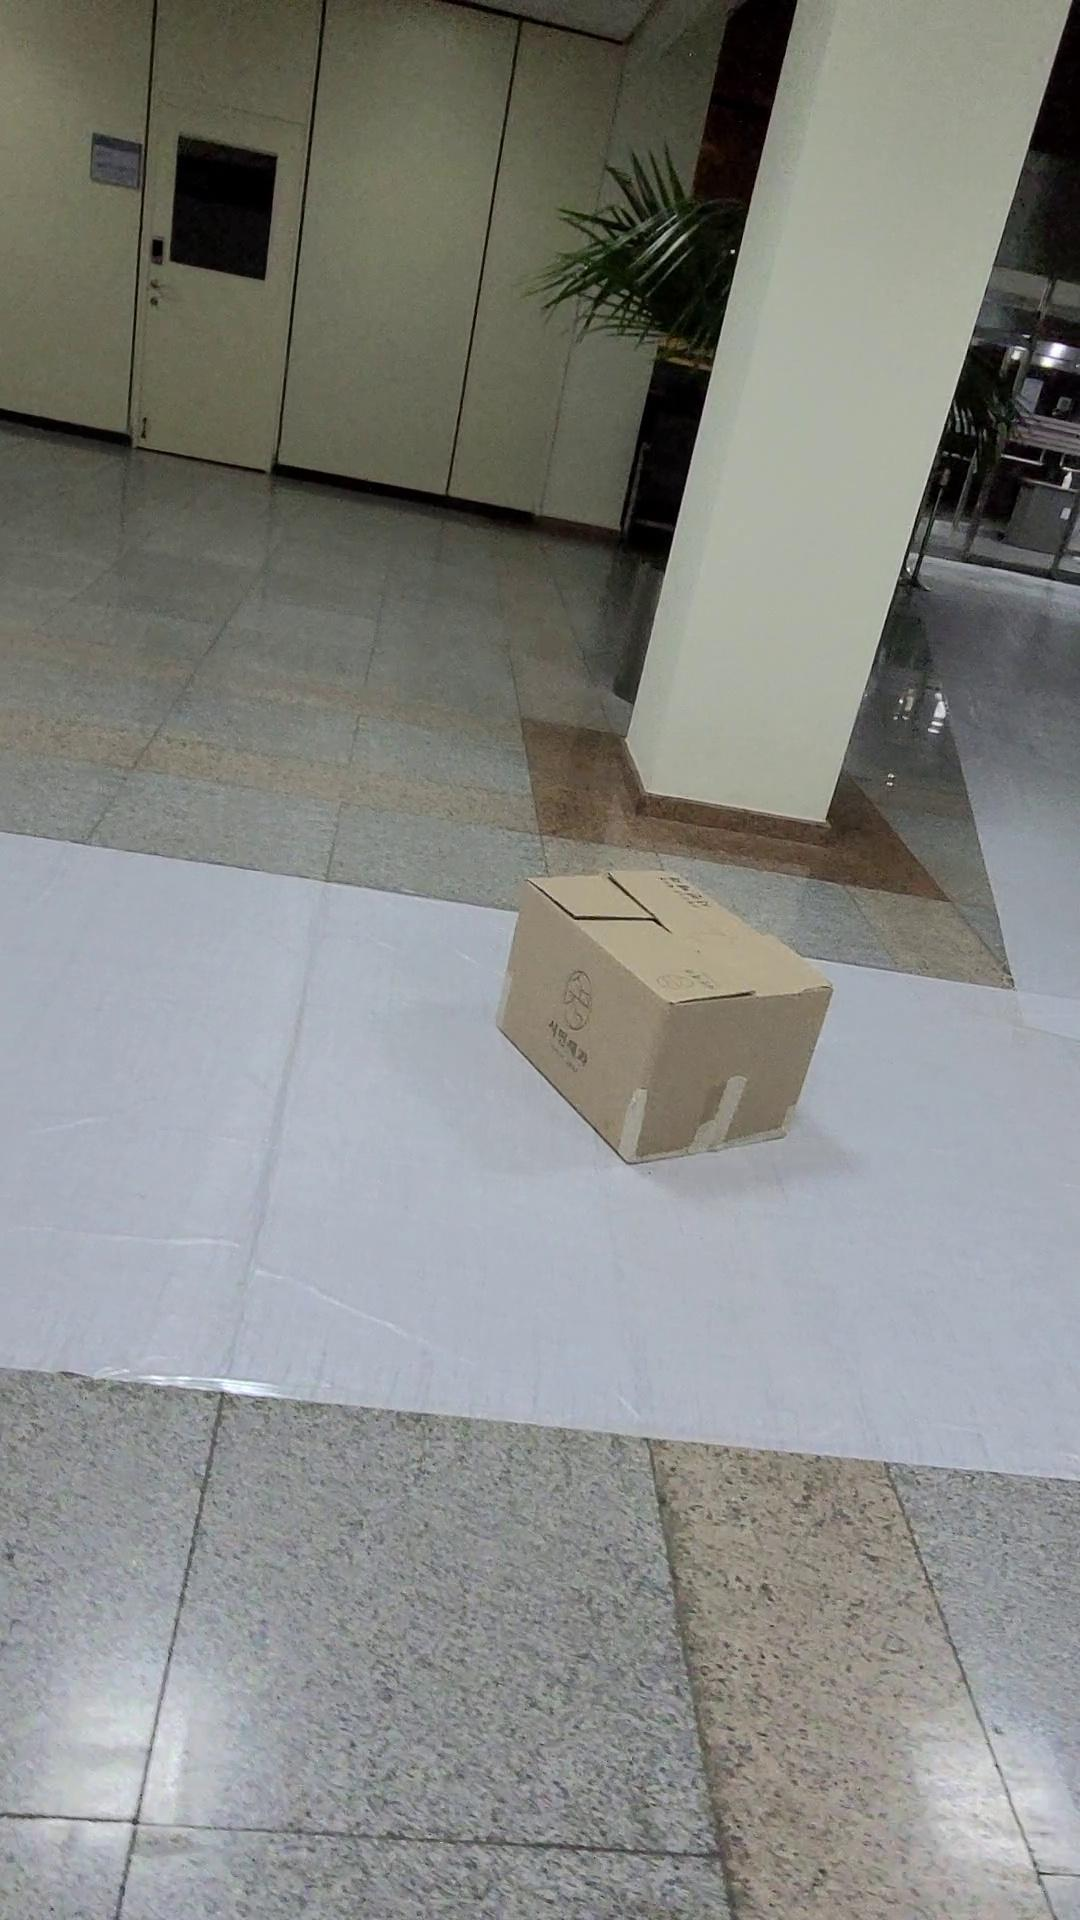Box: (462, 818, 876, 1220)
